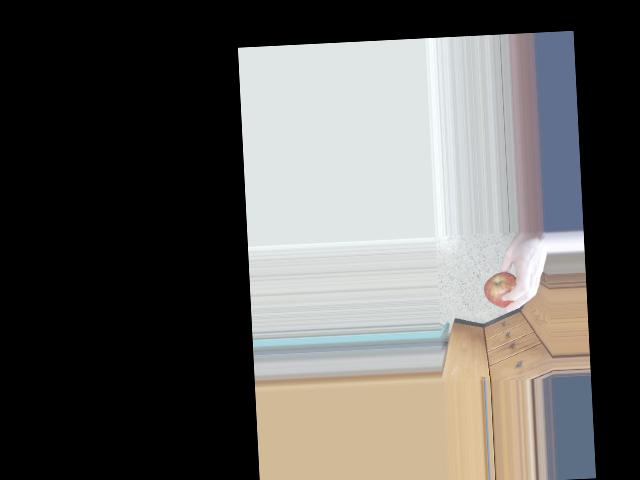apple: (482, 268, 524, 313)
